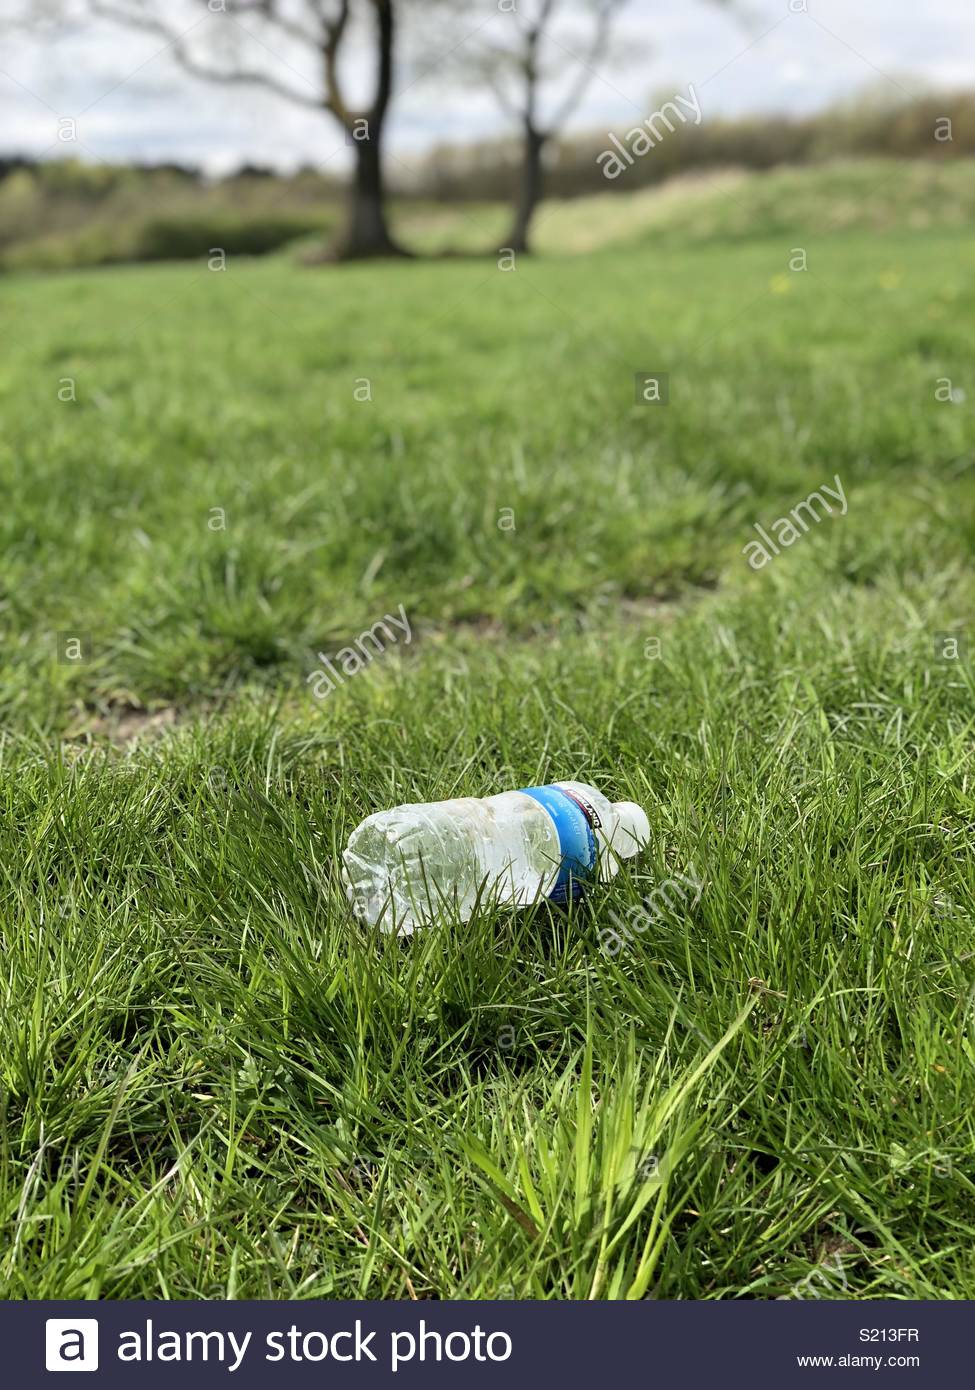plastic_bottle: (322, 772, 656, 894)
